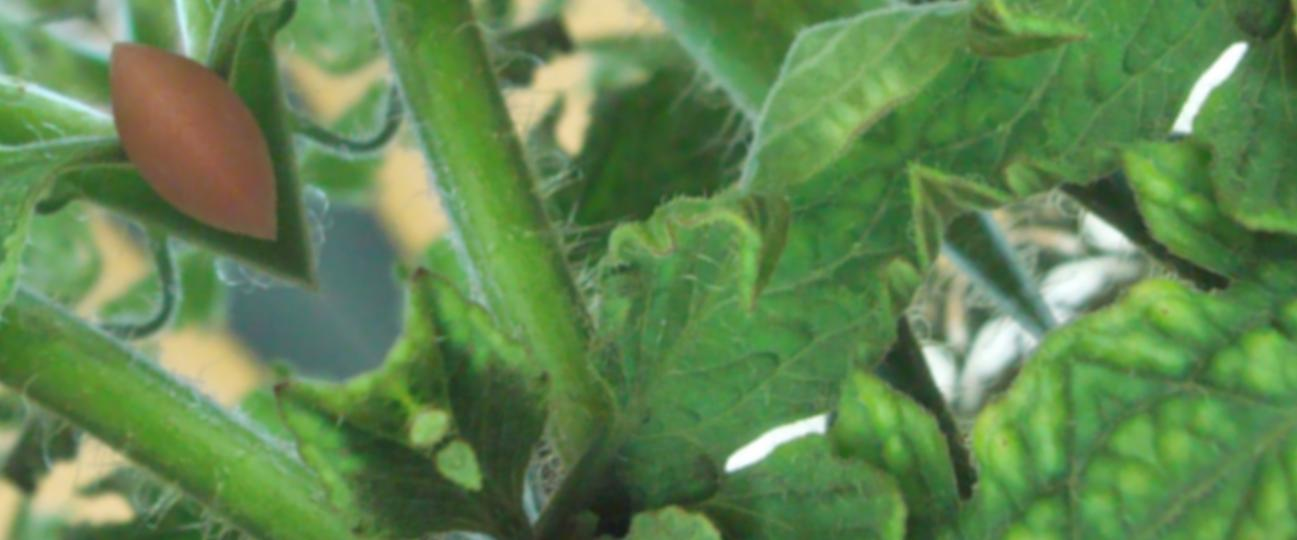Tomato leaf mosaic virus: (328, 0, 1111, 540), (643, 287, 1268, 540), (134, 0, 650, 102)
